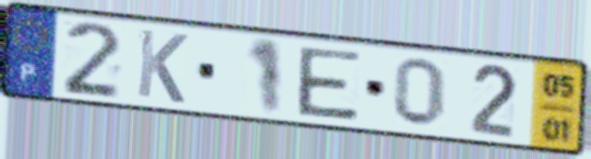0: (389, 56, 451, 130)
1: (243, 37, 285, 119)
2: (58, 20, 126, 101), (468, 62, 521, 141)
E: (295, 45, 364, 124)
K: (133, 26, 191, 107)
